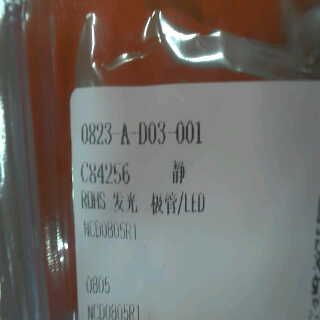LED: (108, 189, 214, 219)
